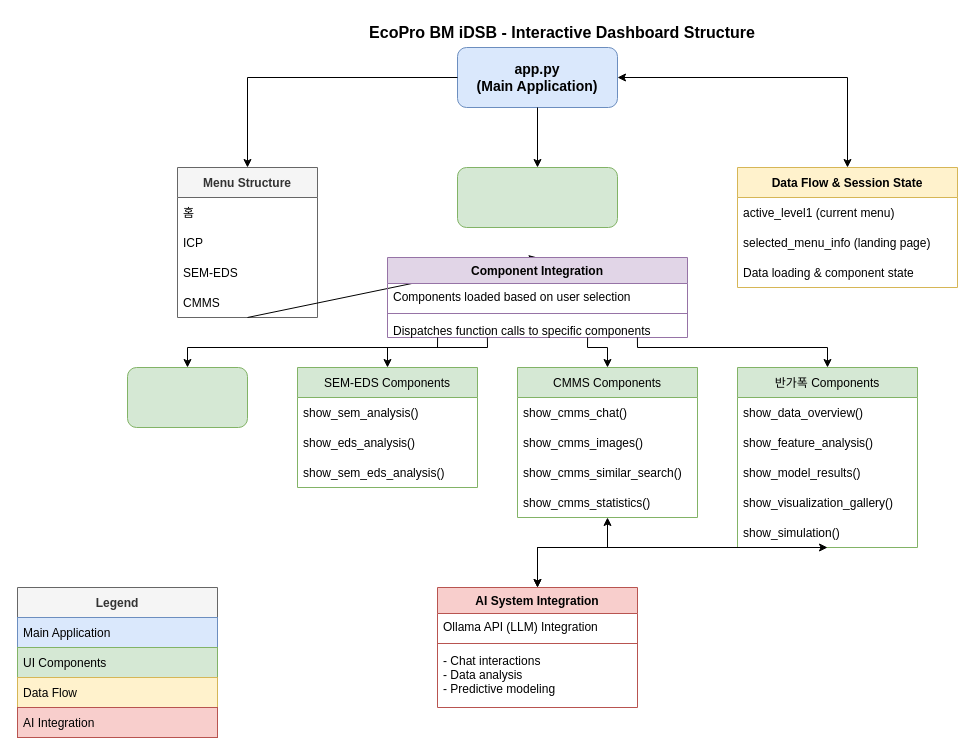
Image size: 975x755. Some labels were removed from this diagram. Each missing label, with the centre of its shape:
"icp.py (ICP 분석)" goes at [187,397].
"landing_page.py (랜딩 페이지)" goes at [537,197].
